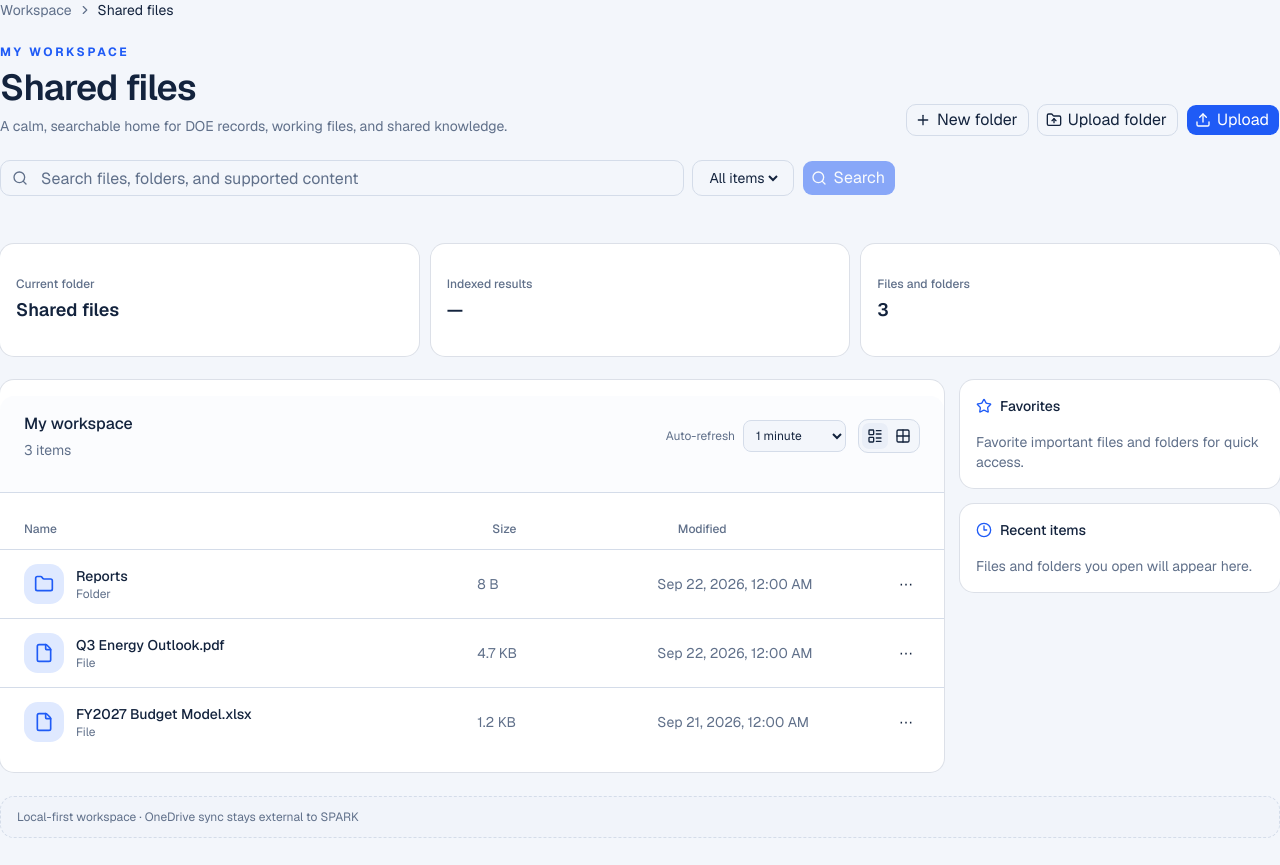
FileWorkspace › renders search loading, results, selection, and empty states
The image size is (1280, 865).
Type "brief" into the search field named "Search workspace" at (342, 178), box x1=0 y1=160 x2=684 y2=196
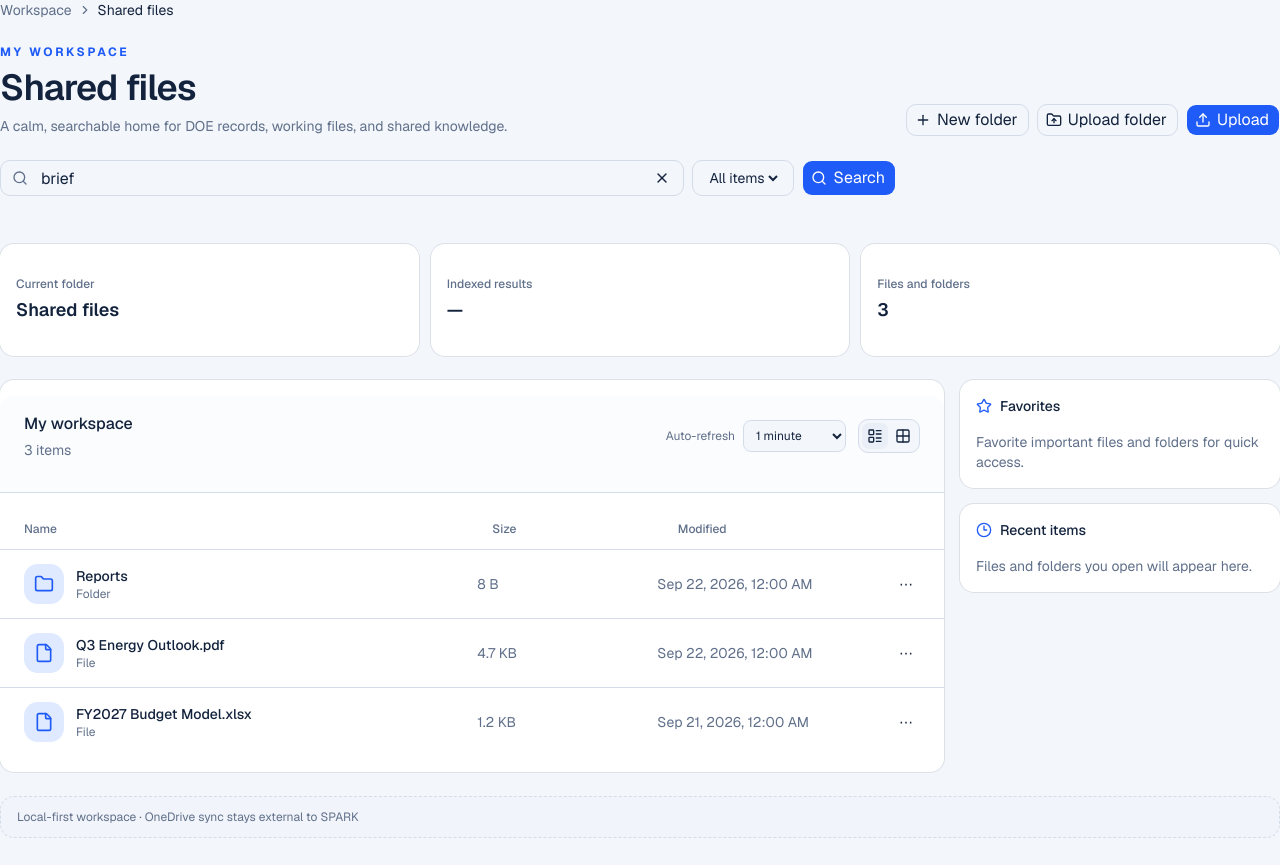
Press Enter in the search field named "Search workspace", box x1=0 y1=160 x2=684 y2=196
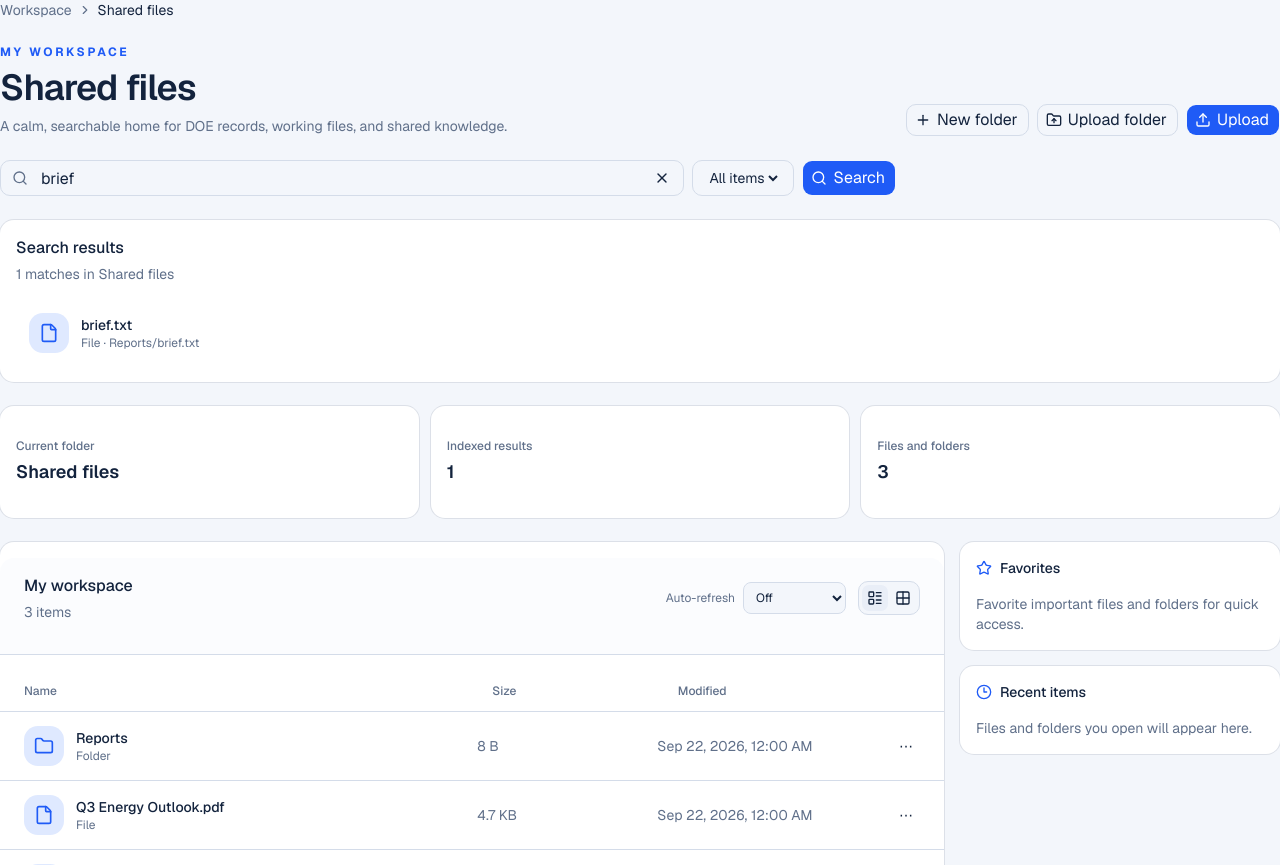
Result: the button with aria-label "Open search result brief.txt" is shown at x1=16 y1=300 x2=427 y2=366
Replace the text in the search field named "Search workspace" with "missing" at (342, 178), box x1=0 y1=160 x2=684 y2=196
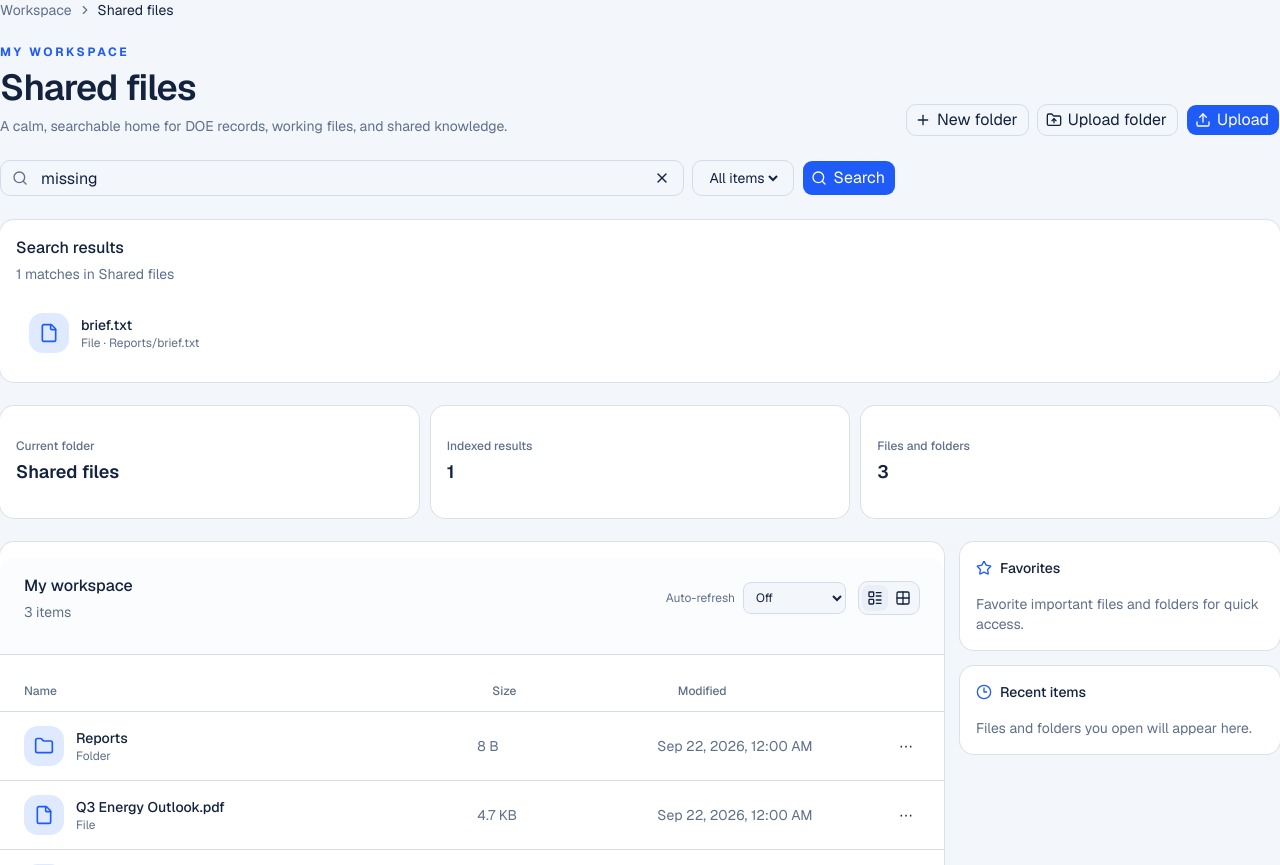
Press Enter in the search field named "Search workspace", box x1=0 y1=160 x2=684 y2=196
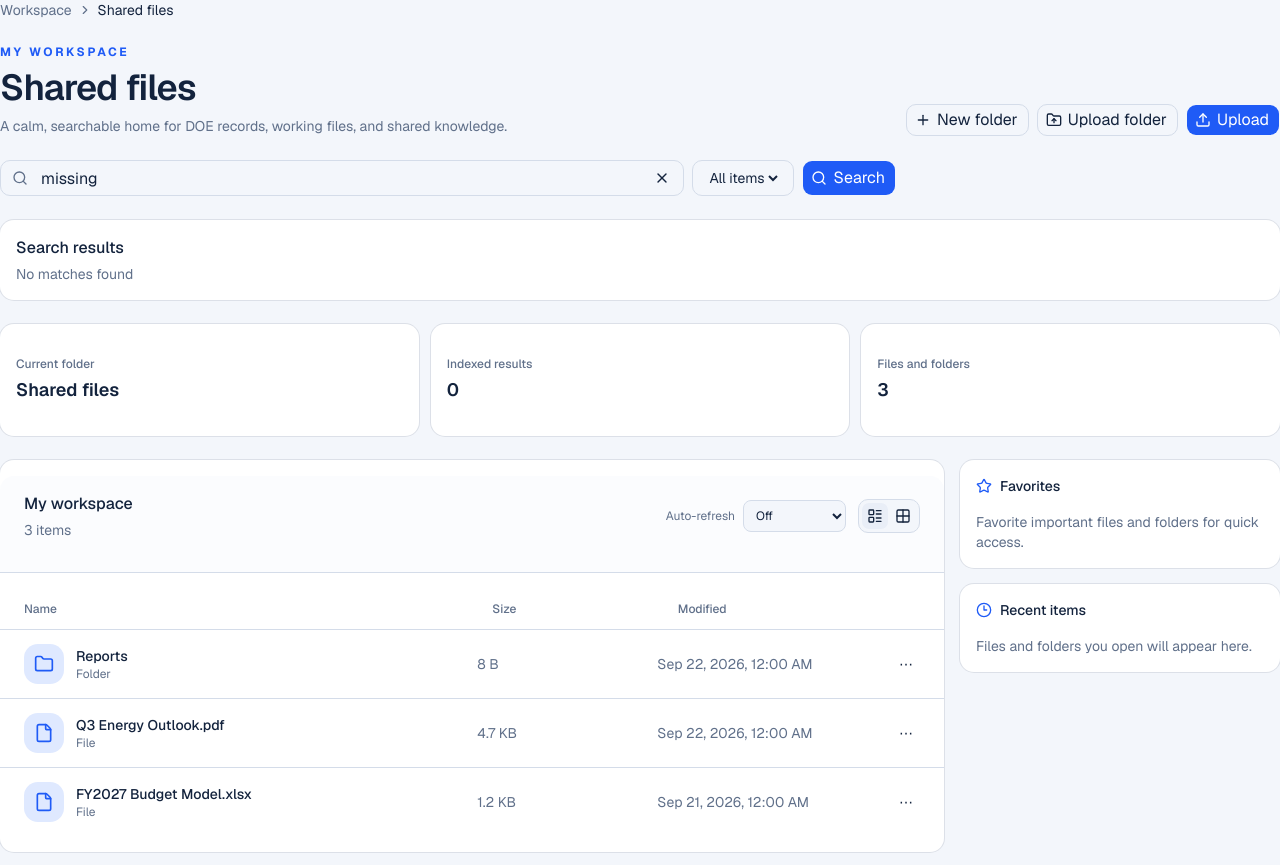
Result: the text "No matches found" is shown at x1=16 y1=265 x2=133 y2=283
